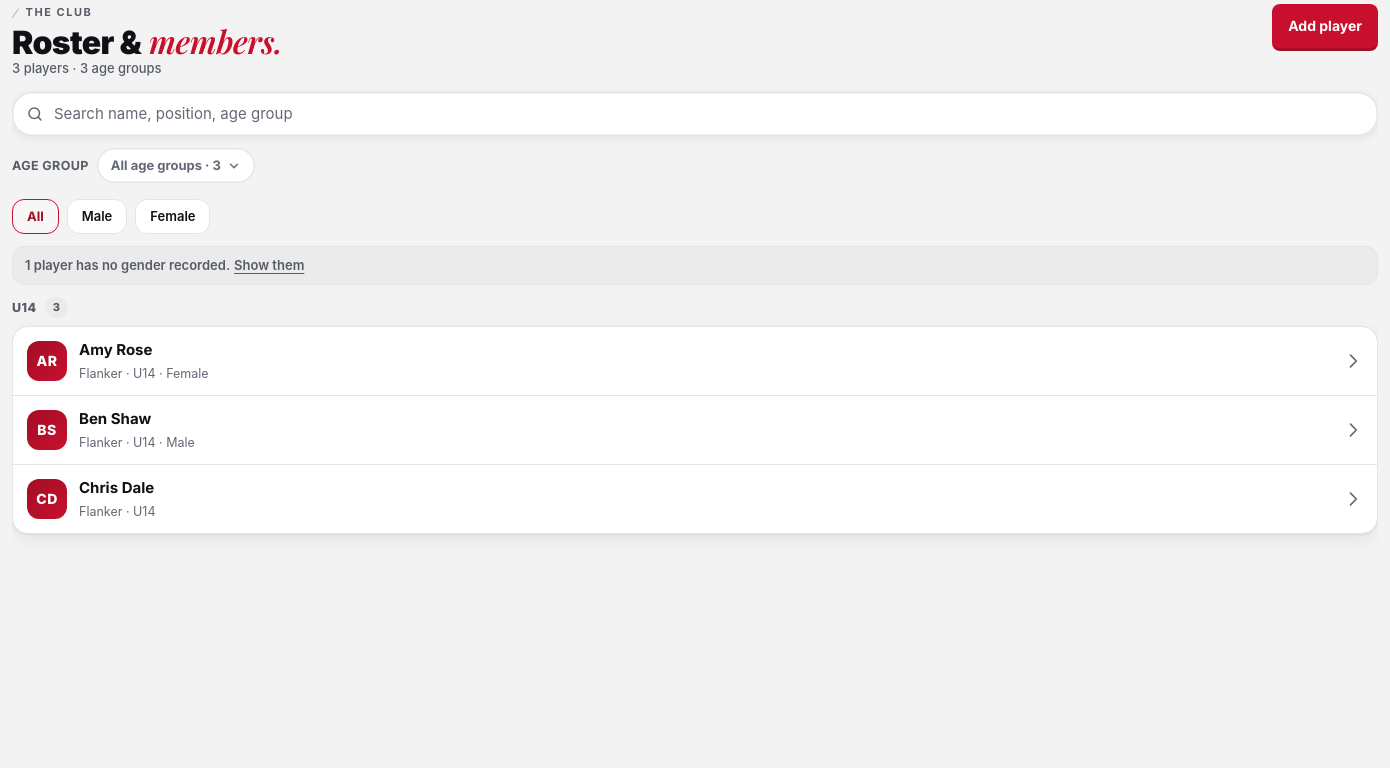
Test: The roster gender filter › narrows the list to one gender
expect the heading "Roster & members." is shown: met, box [12,26,282,58]
Click the radio button labelled "Female" at (173, 217), box [135,199,210,234]
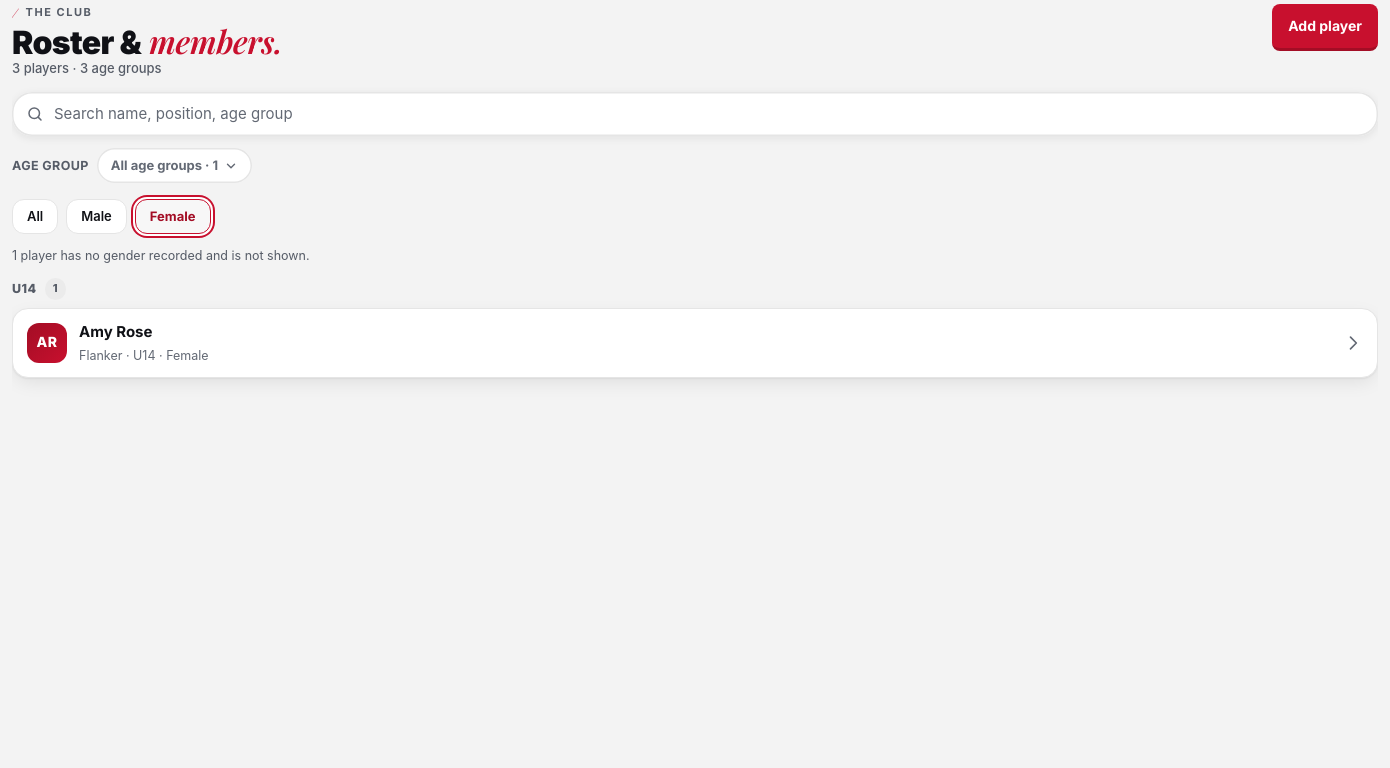
expect the button "AR Amy Rose Flanker · U14 · Female" is shown: met, box [13,309,1377,377]
expect the button "Ben Shaw" is gone: met
